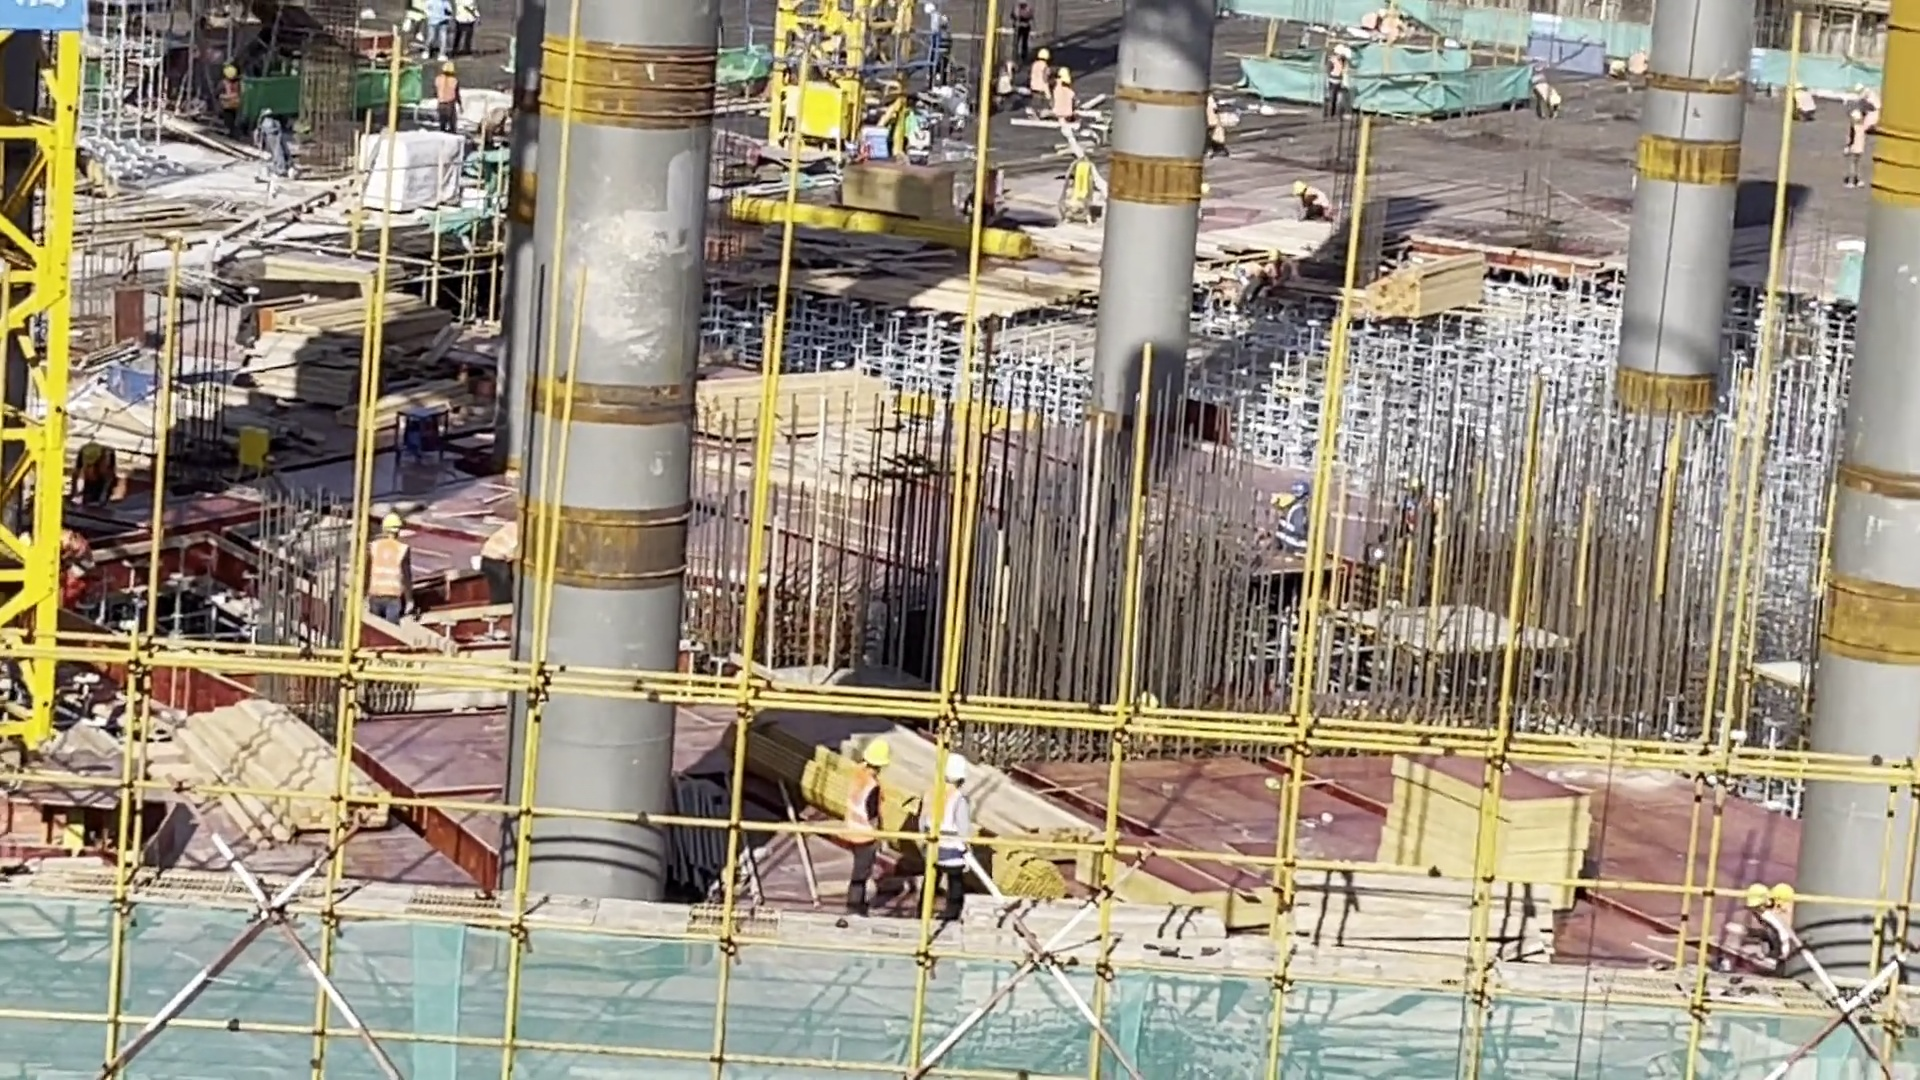helmet: (865, 742, 889, 764), (381, 514, 402, 531)
person: (833, 739, 892, 926), (917, 753, 973, 910), (359, 514, 415, 630)
vest: (916, 786, 964, 869), (843, 775, 879, 856)
